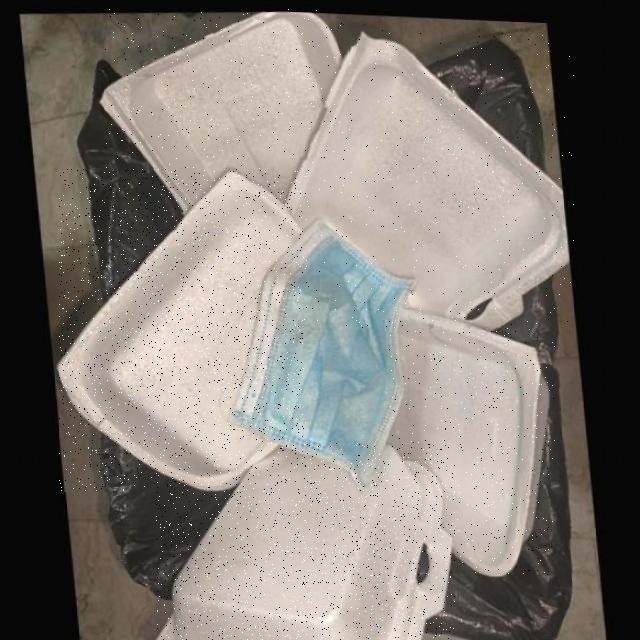styrofoam: (290, 30, 574, 328), (60, 169, 307, 491), (157, 443, 455, 640), (105, 9, 349, 211), (389, 304, 555, 575)
